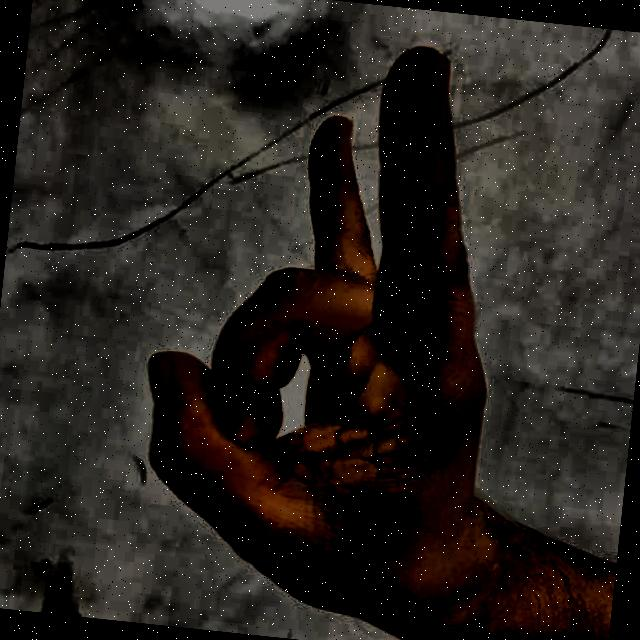Cha: (77, 9, 569, 640)
